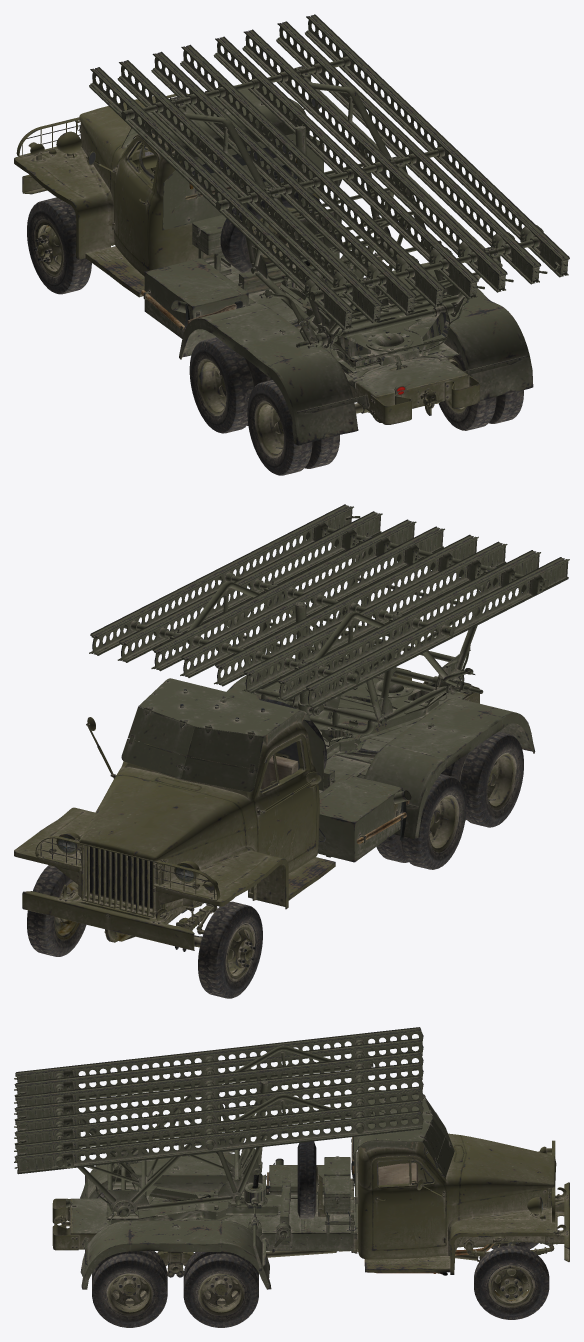
The picture shows the model from 3 angles, top to bottom: view 1: azimuth 30°, elevation 25°; view 2: azimuth 150°, elevation 25°; view 3: azimuth 270°, elevation 25°; orthographic projection. The views are drawn at different scales.
Visible parts, largest first — view 1: gun_0_gun_0_0; view 2: gun_0_gun_0_0; view 3: gun_0_gun_0_0.
Part boxes in pixels (x1,y1,x2,y2): gun_0_gun_0_0: [14, 14, 569, 475]; gun_0_gun_0_0: [14, 504, 569, 998]; gun_0_gun_0_0: [14, 1027, 569, 1327].
Bounding box in the file's own units: 2.97 × 2.88 × 6.78.
Materials: 5 (5 with a texture image).
